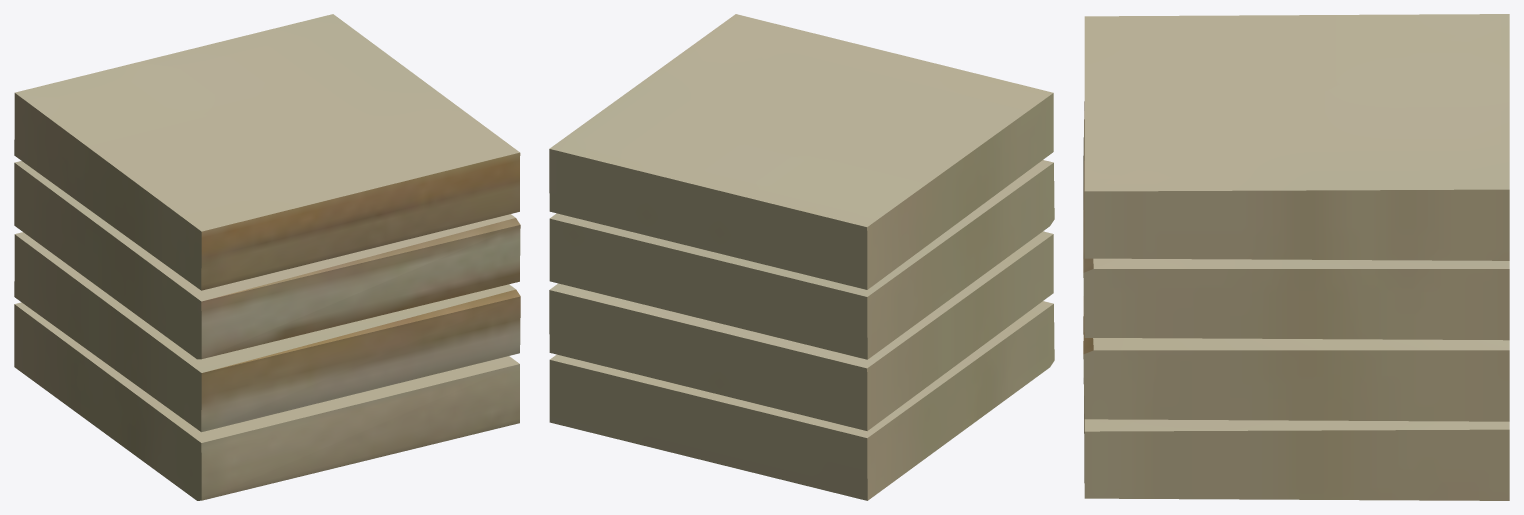
File: book3_h1.dae
The picture shows the model from 3 angles, left to right: view 1: azimuth 30°, elevation 25°; view 2: azimuth 150°, elevation 25°; view 3: azimuth 270°, elevation 25°; orthographic projection. The views are drawn at different scales.
Visible parts, largest first — view 1: node; view 2: node; view 3: node.
Boxes of the visible parts, bbox=[...] form: node: bbox=[14, 14, 520, 500]; node: bbox=[549, 14, 1054, 500]; node: bbox=[1083, 14, 1509, 500].
Size of the model in its own units: 0.1179 by 0.0972 by 0.1201.
1 material, 1 textured.
